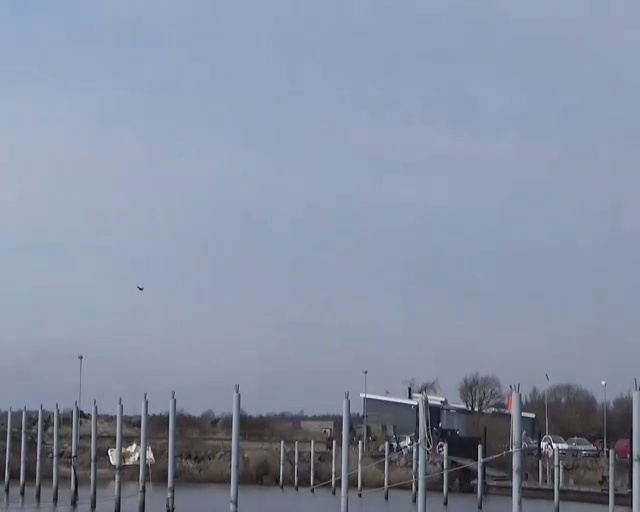BIRD: (135, 283, 145, 291)
